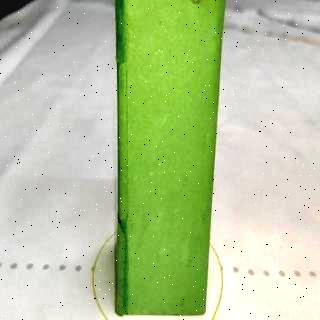greenbox: (111, 1, 233, 316)
